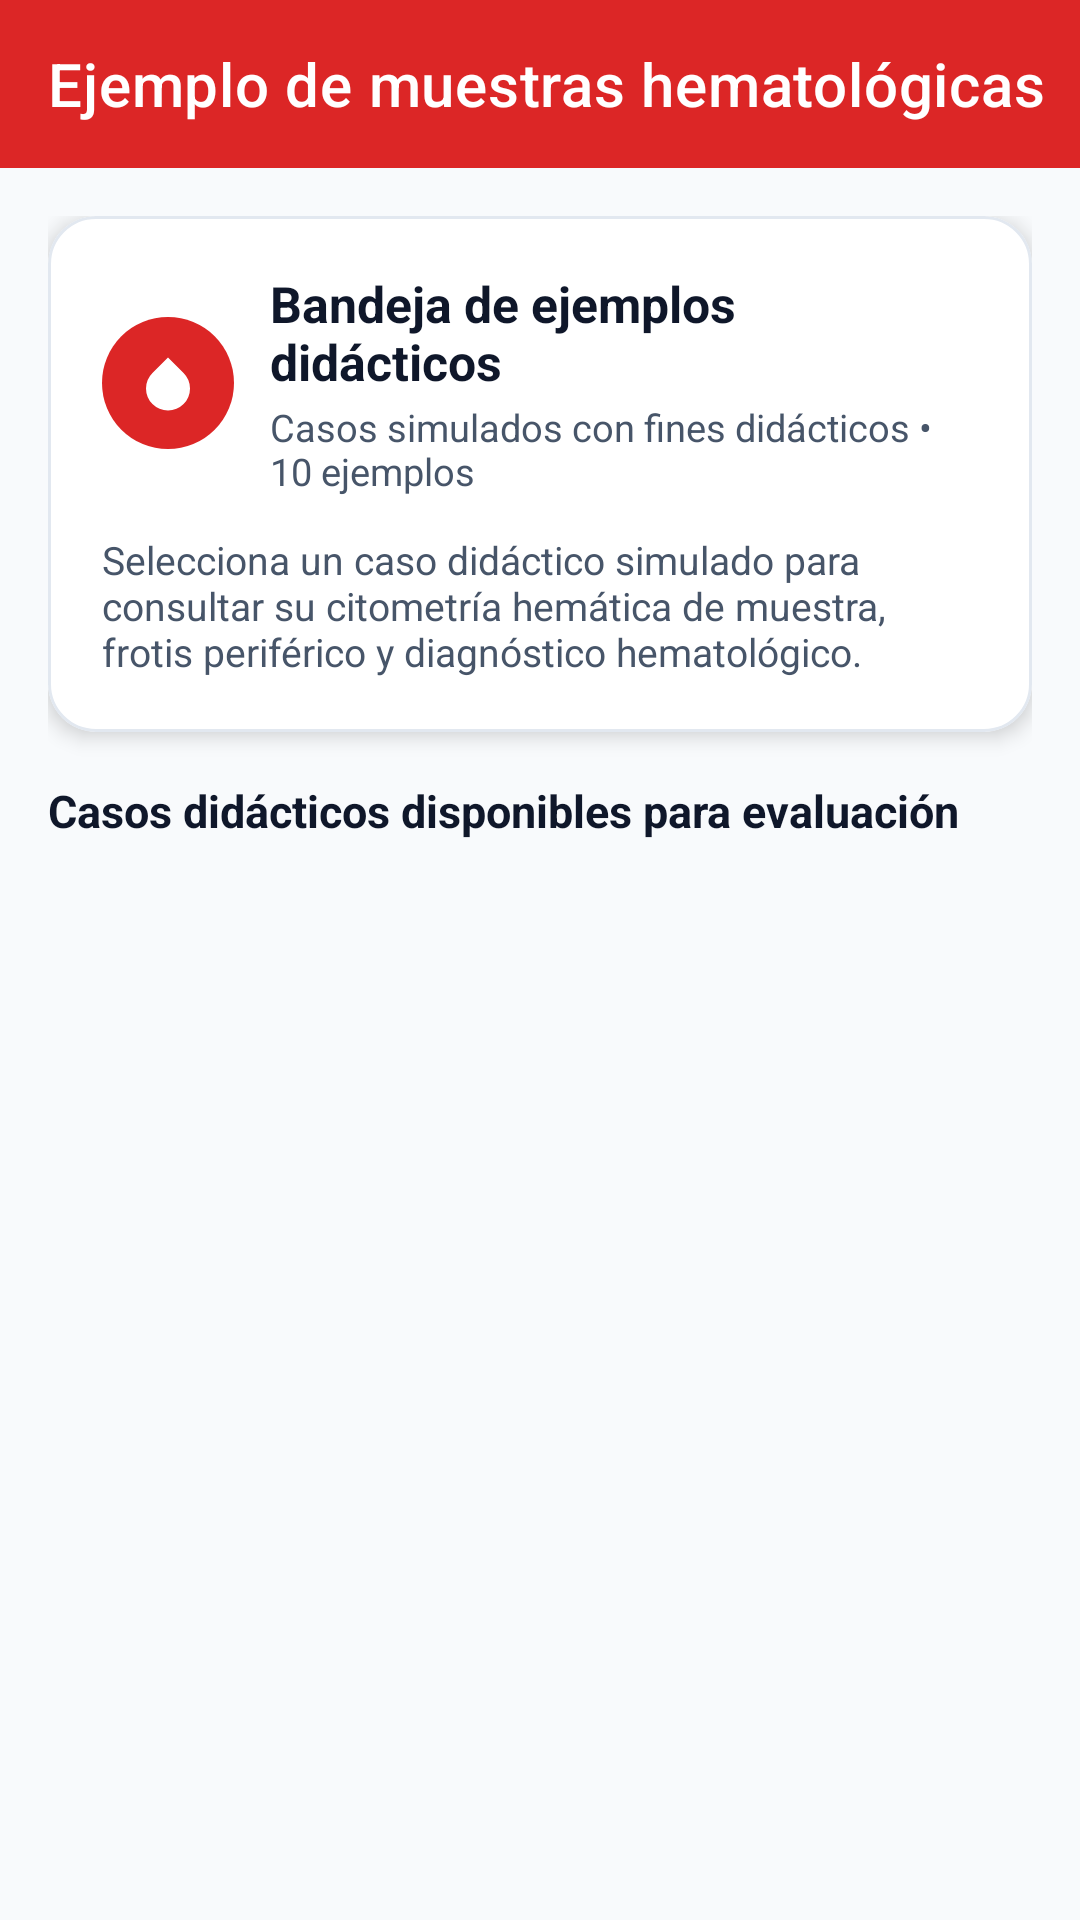

Icon click points for this 1080x1920 phone screenshot, format point (x, y):
blood drop: point (168, 384)
